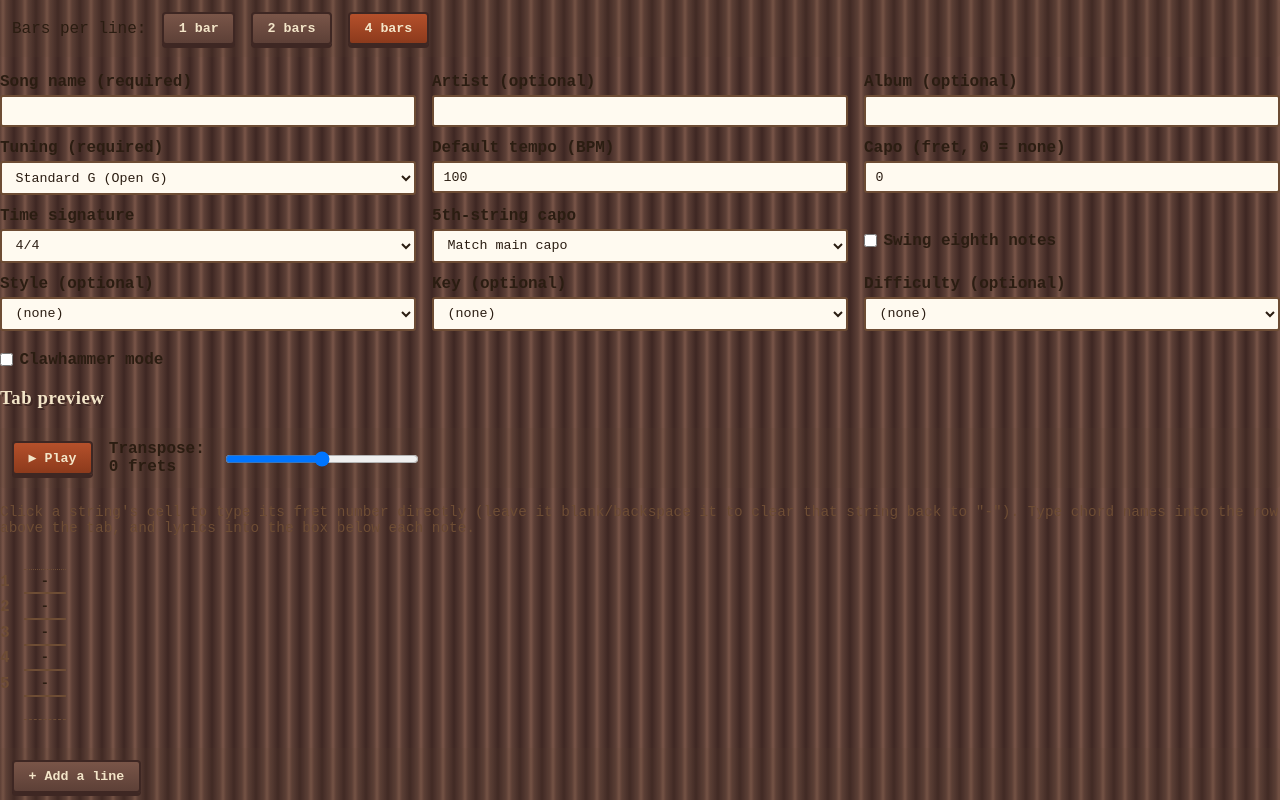
Test: TabEditor › puts the 'Edit selected note' panel beside the tab preview as two columns
Click the 1st text with class "clickable" at (45, 582), box [24,570,66,594]
(page scrolled)
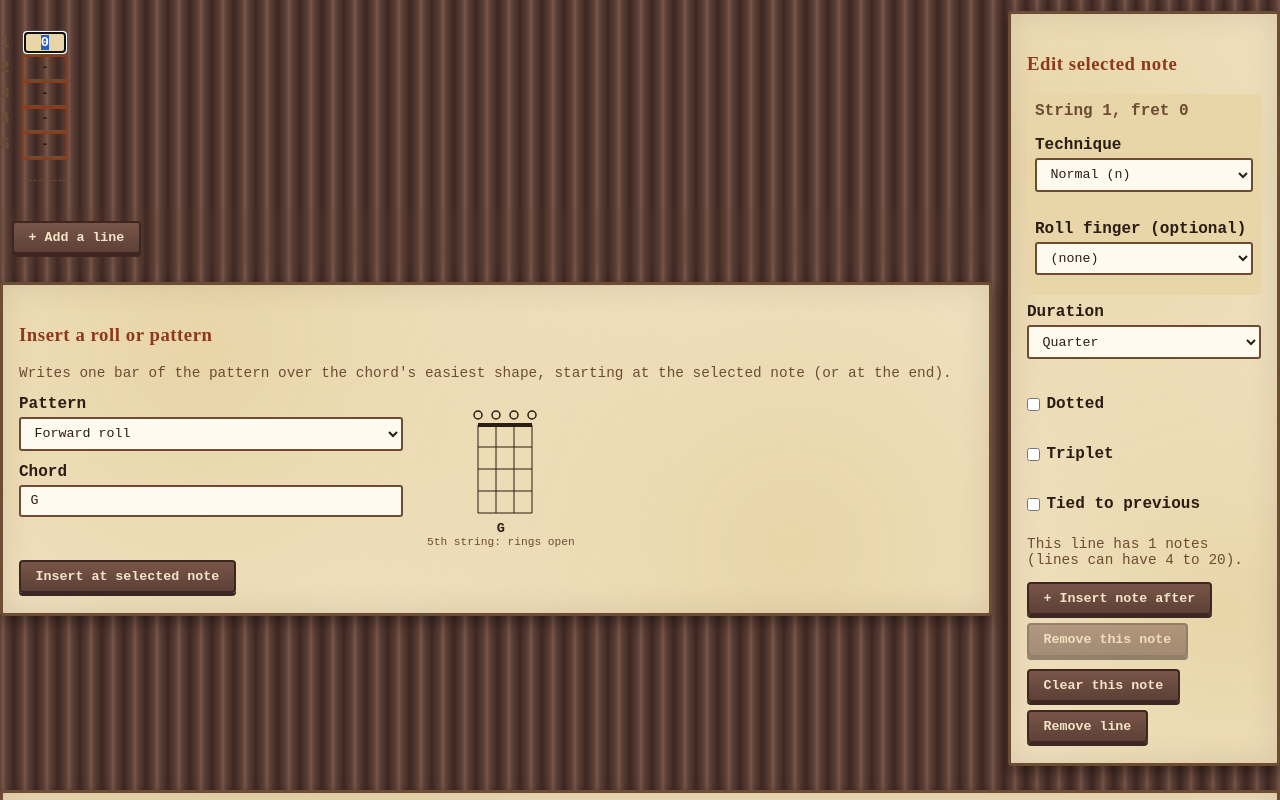
expect the element with class "tab-with-editor" is shown: met
expect the element with class "edit-note-col" is shown: met, box [1008,11,1279,790]
